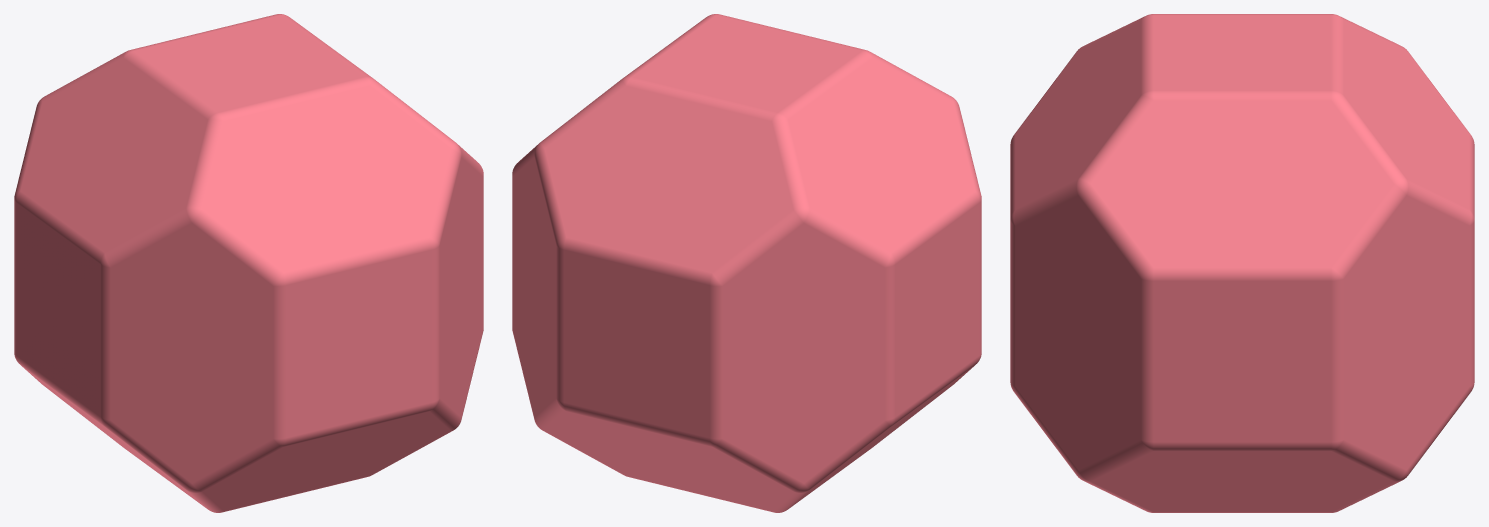
The model's file is vrc_element_1.glb.
3 views of the same model, side by side, from view 1: azimuth 30°, elevation 25°; view 2: azimuth 150°, elevation 25°; view 3: azimuth 270°, elevation 25° (orthographic). The views are drawn at different scales.
Visible parts, largest first — view 1: mesh0_mesh_42, mesh0_mesh_38, mesh0_mesh_89, mesh0_mesh_32, mesh0_mesh_92, mesh0_mesh_79, mesh0_mesh_25, mesh0_mesh_14, mesh0_mesh_34, mesh0_mesh_35, mesh0_mesh_39, mesh0_mesh_70 (+14 smaller); view 2: mesh0_mesh_91, mesh0_mesh_84, mesh0_mesh_89, mesh0_mesh_74, mesh0_mesh_92, mesh0_mesh_79, mesh0_mesh_56, mesh0_mesh_20, mesh0_mesh_77, mesh0_mesh_76, mesh0_mesh_86, mesh0_mesh_96 (+14 smaller); view 3: mesh0_mesh_18, mesh0_mesh_2, mesh0_mesh_14, mesh0_mesh_20, mesh0_mesh_16, mesh0_mesh_79, mesh0_mesh_38, mesh0_mesh_84, mesh0_mesh_8, mesh0_mesh_1, mesh0_mesh_7, mesh0_mesh_64 (+15 smaller).
Boxes of the visible parts, bbox=[...] form: mesh0_mesh_42: bbox=[110, 223, 273, 483]; mesh0_mesh_38: bbox=[202, 86, 450, 272]; mesh0_mesh_89: bbox=[21, 58, 207, 252]; mesh0_mesh_32: bbox=[286, 250, 431, 437]; mesh0_mesh_92: bbox=[16, 203, 100, 416]; mesh0_mesh_79: bbox=[134, 15, 363, 112]; mesh0_mesh_25: bbox=[203, 411, 450, 511]; mesh0_mesh_14: bbox=[439, 157, 483, 417]; mesh0_mesh_34: bbox=[284, 237, 431, 285]; mesh0_mesh_35: bbox=[273, 285, 285, 438]; mesh0_mesh_39: bbox=[192, 210, 283, 285]; mesh0_mesh_70: bbox=[100, 265, 110, 420]; mesh0_mesh_91: bbox=[722, 223, 885, 483]; mesh0_mesh_84: bbox=[545, 86, 793, 272]; mesh0_mesh_89: bbox=[788, 58, 974, 252]; mesh0_mesh_74: bbox=[564, 250, 709, 437]; mesh0_mesh_92: bbox=[895, 203, 979, 416]; mesh0_mesh_79: bbox=[632, 15, 861, 112]; mesh0_mesh_56: bbox=[545, 411, 792, 511]; mesh0_mesh_20: bbox=[512, 157, 556, 417]; mesh0_mesh_77: bbox=[564, 237, 711, 285]; mesh0_mesh_76: bbox=[710, 285, 722, 438]; mesh0_mesh_86: bbox=[712, 210, 803, 285]; mesh0_mesh_96: bbox=[885, 265, 895, 420]; mesh0_mesh_18: bbox=[1091, 100, 1393, 267]; mesh0_mesh_2: bbox=[1153, 281, 1331, 441]; mesh0_mesh_14: bbox=[1015, 195, 1140, 469]; mesh0_mesh_20: bbox=[1344, 195, 1469, 469]; mesh0_mesh_16: bbox=[1091, 451, 1393, 511]; mesh0_mesh_79: bbox=[1153, 15, 1331, 90]; mesh0_mesh_38: bbox=[1015, 20, 1140, 208]; mesh0_mesh_84: bbox=[1344, 20, 1469, 208]; mesh0_mesh_8: bbox=[1153, 267, 1331, 280]; mesh0_mesh_1: bbox=[1141, 279, 1153, 441]; mesh0_mesh_7: bbox=[1331, 279, 1343, 441]; mesh0_mesh_64: bbox=[1153, 90, 1331, 100].
Bounding box in the file's own units: 0.0825 × 0.0825 × 0.0825.
